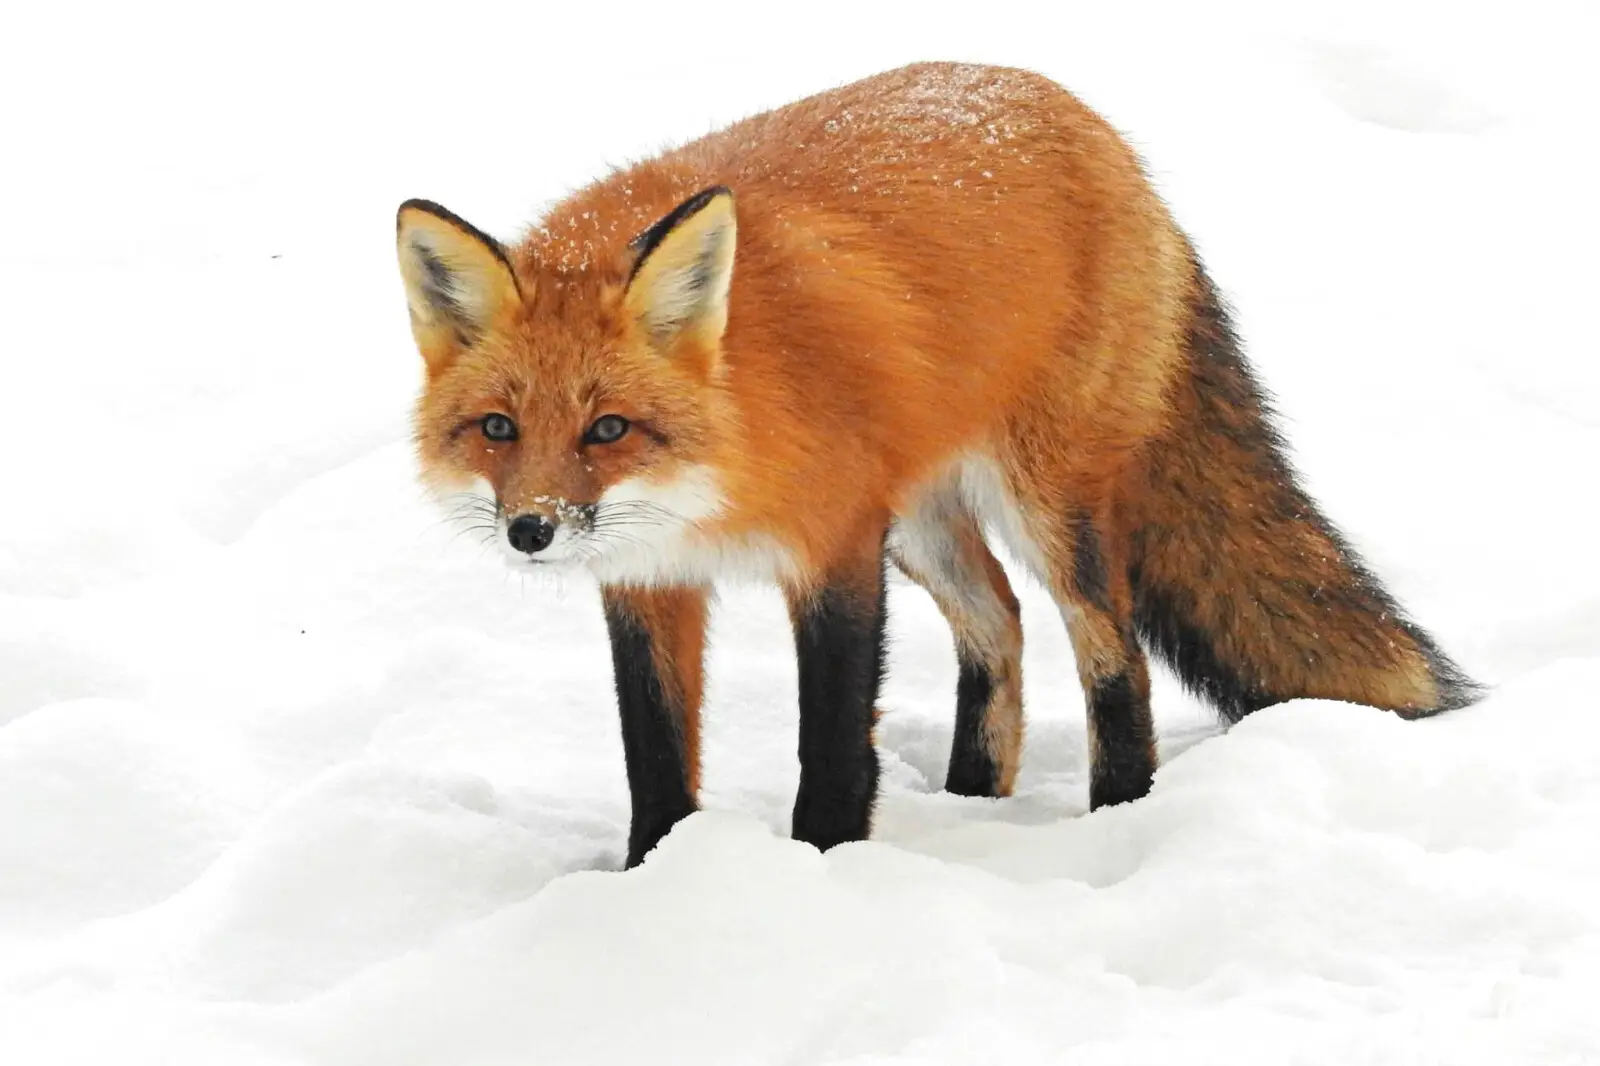fox: (369, 156, 1499, 830)
